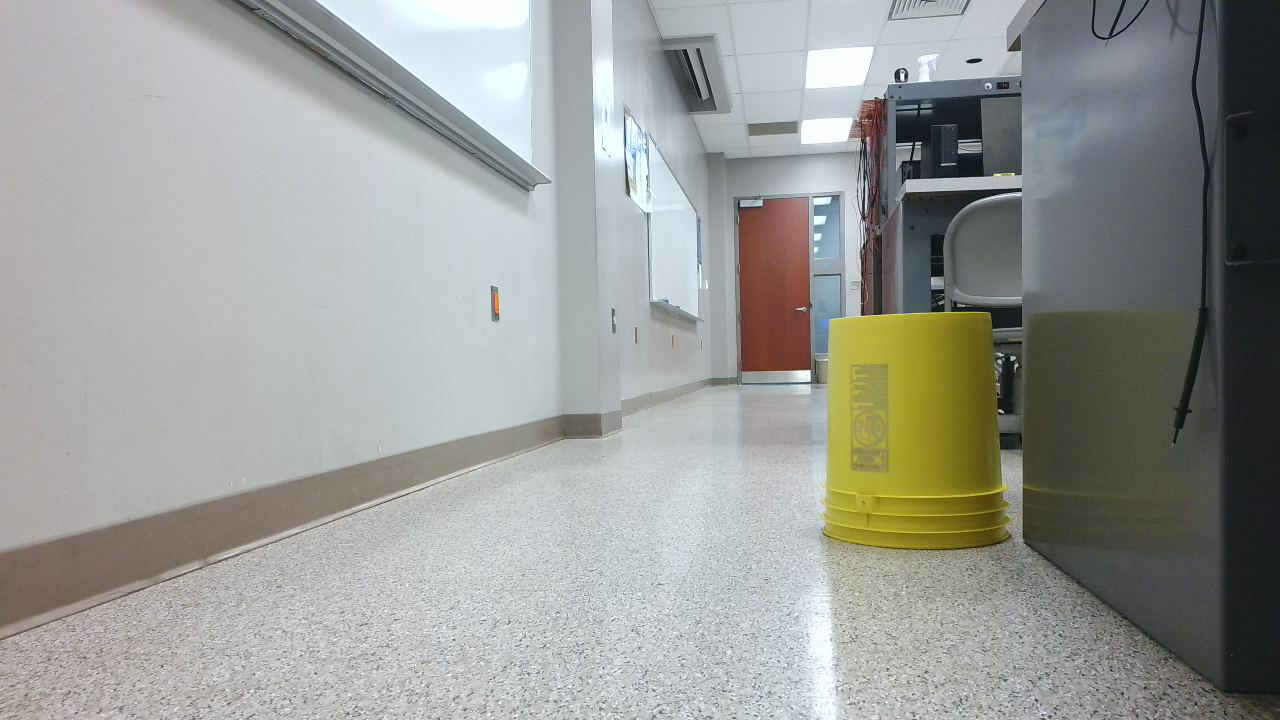yellow_bucket: (823, 313, 1022, 559)
